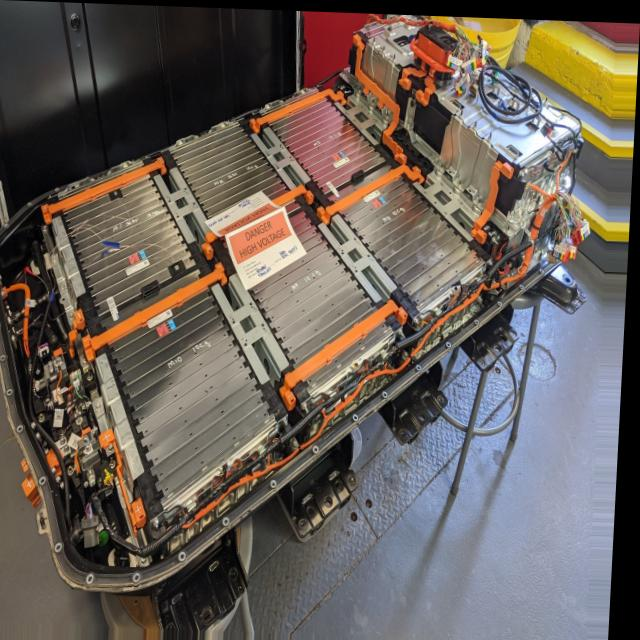Aluminum-frame: (216, 271, 292, 381), (321, 212, 398, 301), (100, 353, 149, 480), (155, 166, 213, 240), (416, 170, 481, 234), (251, 124, 311, 187), (52, 215, 91, 308), (336, 89, 386, 138)
Battery Module: (114, 287, 274, 498), (232, 209, 375, 360), (344, 173, 482, 307), (65, 175, 195, 316), (174, 121, 289, 232), (271, 94, 386, 194)
Bolt: (79, 411, 87, 427), (295, 436, 303, 449), (66, 443, 75, 454), (406, 346, 413, 357), (63, 436, 72, 444), (146, 554, 153, 564), (86, 434, 94, 442), (50, 360, 57, 369), (99, 402, 107, 409), (58, 354, 64, 363), (53, 255, 60, 262), (90, 442, 97, 449), (62, 281, 68, 289), (44, 224, 50, 231), (113, 442, 118, 450), (84, 358, 90, 364), (71, 311, 76, 318), (563, 174, 569, 179)
Bus-bar: (87, 261, 230, 361), (285, 295, 410, 402), (44, 155, 168, 221), (204, 182, 316, 254), (353, 29, 408, 162), (320, 161, 426, 220), (103, 428, 151, 533), (251, 86, 347, 130), (473, 157, 516, 239), (417, 66, 436, 102), (399, 62, 427, 85)
Cable: (191, 195, 555, 529), (372, 11, 457, 27)
Nut: (305, 399, 315, 411), (472, 116, 482, 127), (402, 325, 411, 335), (158, 517, 166, 528), (487, 128, 495, 138), (416, 314, 424, 323), (478, 194, 486, 203), (540, 246, 547, 256), (460, 105, 467, 115), (440, 159, 447, 168), (43, 411, 49, 421), (459, 175, 465, 185), (508, 222, 515, 230), (114, 456, 120, 465), (72, 465, 77, 475), (372, 33, 377, 43), (385, 108, 392, 115), (382, 42, 388, 50), (358, 82, 363, 91), (392, 50, 397, 58), (372, 95, 377, 102), (91, 370, 95, 378)
